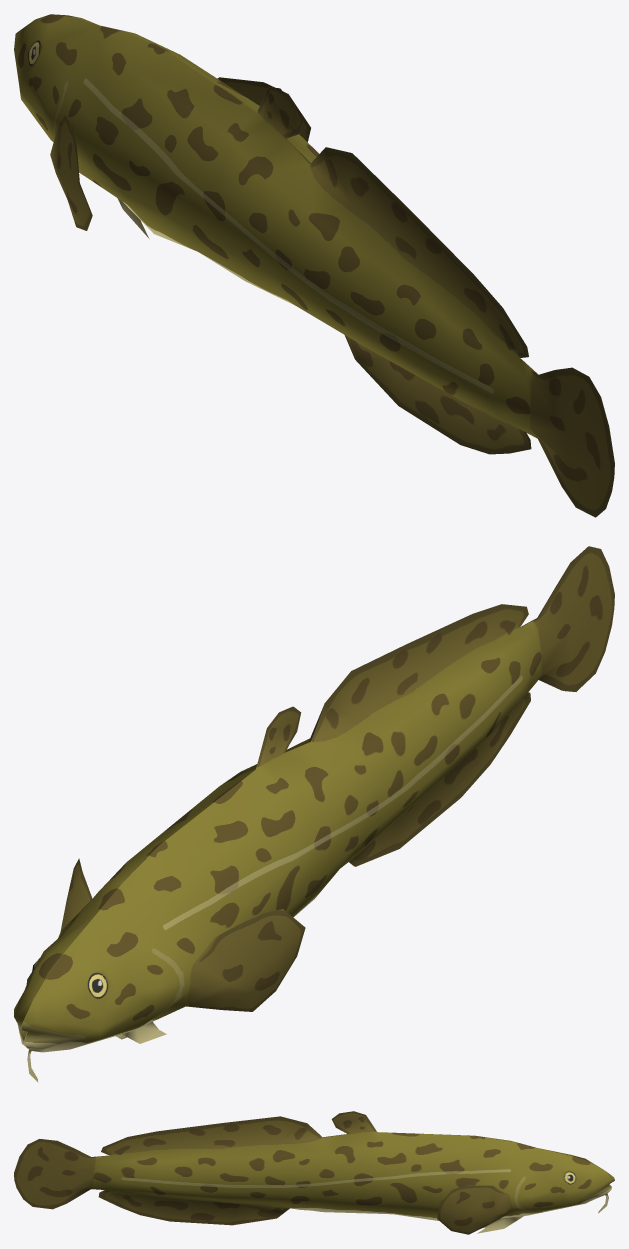
The model's file is burbot00.fbx.
The picture shows the model from 3 angles, top to bottom: view 1: azimuth 30°, elevation 25°; view 2: azimuth 150°, elevation 25°; view 3: azimuth 270°, elevation 25°; orthographic projection. The views are drawn at different scales.
Visible parts, largest first — view 1: Burbot_final; view 2: Burbot_final; view 3: Burbot_final.
Part boxes in pixels (x1,y1,x2,y2): Burbot_final: [14, 14, 614, 517]; Burbot_final: [14, 546, 614, 1082]; Burbot_final: [14, 1111, 614, 1234].
Size of the model in its own units: 0.2614 by 0.2594 by 1.18.
